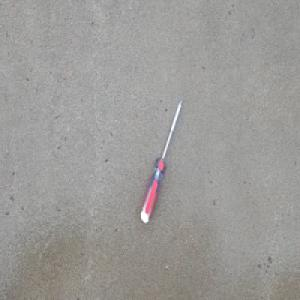Screwdriver: (139, 94, 184, 224)
